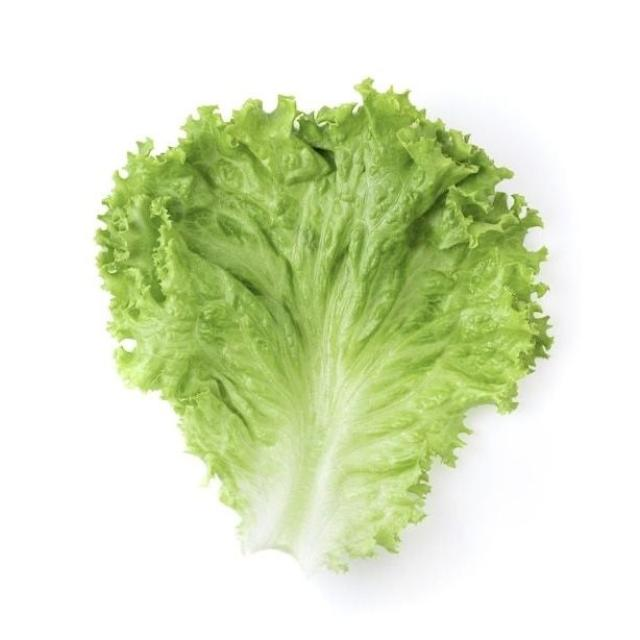lettuce: (98, 82, 550, 569)
